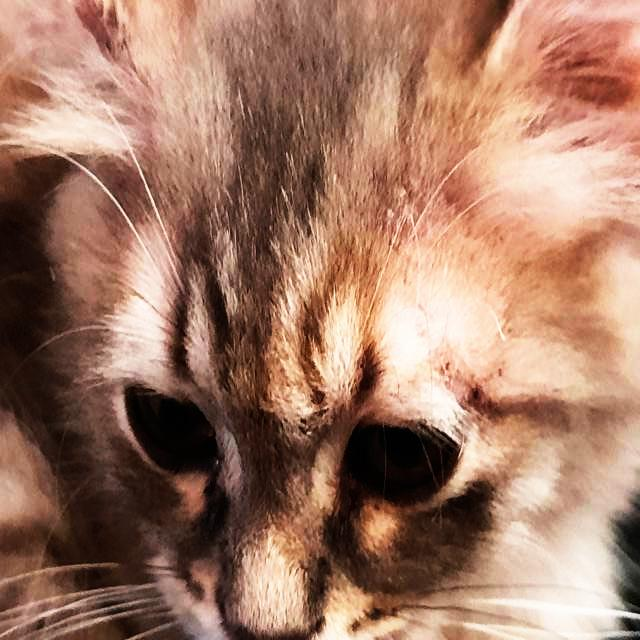hairloss: (382, 273, 503, 378), (110, 261, 169, 371)
